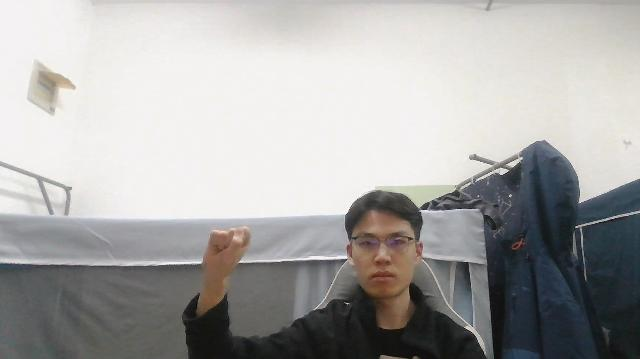ten: (201, 226, 253, 281)
